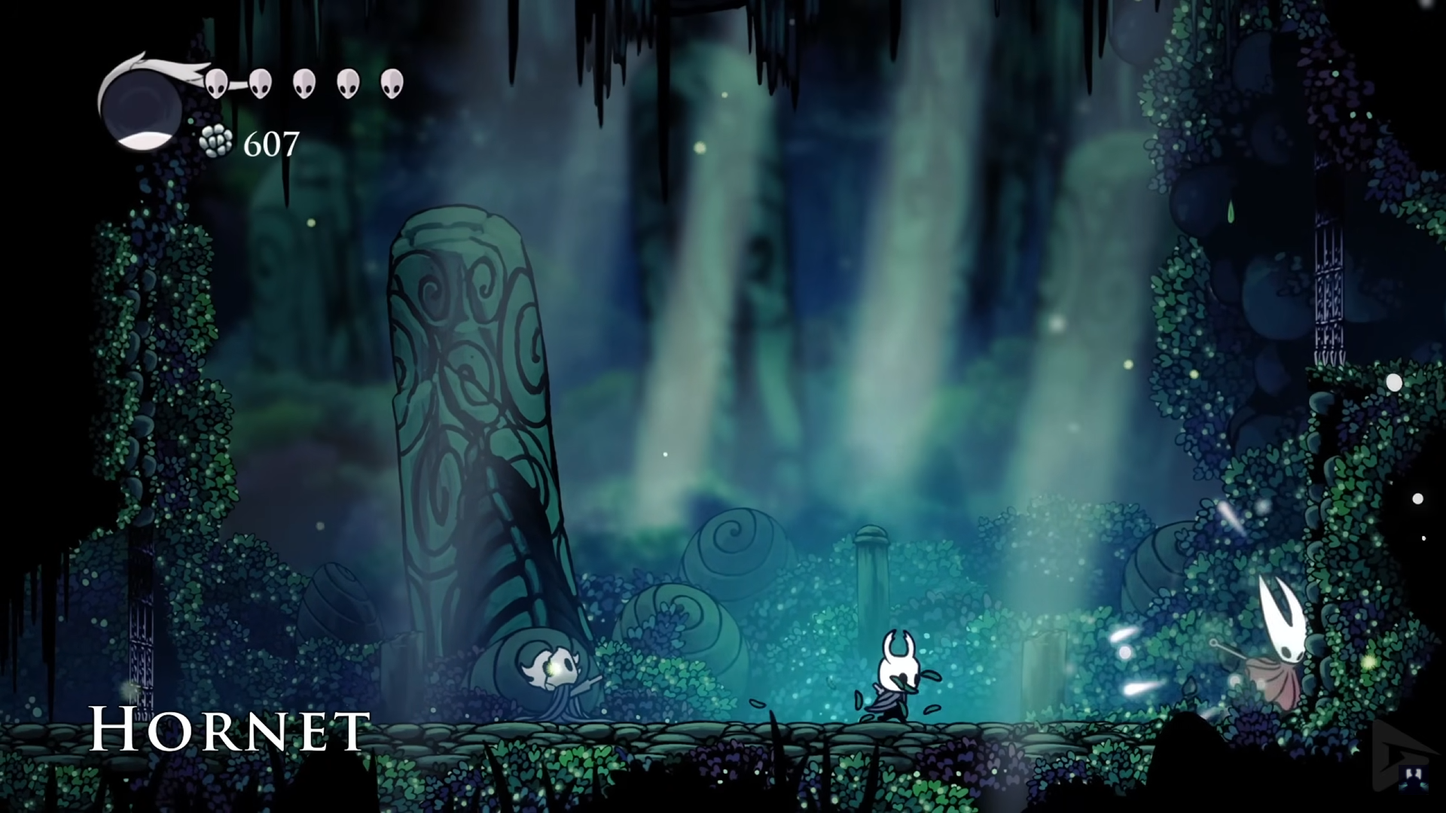HK: (870, 629, 925, 726)
